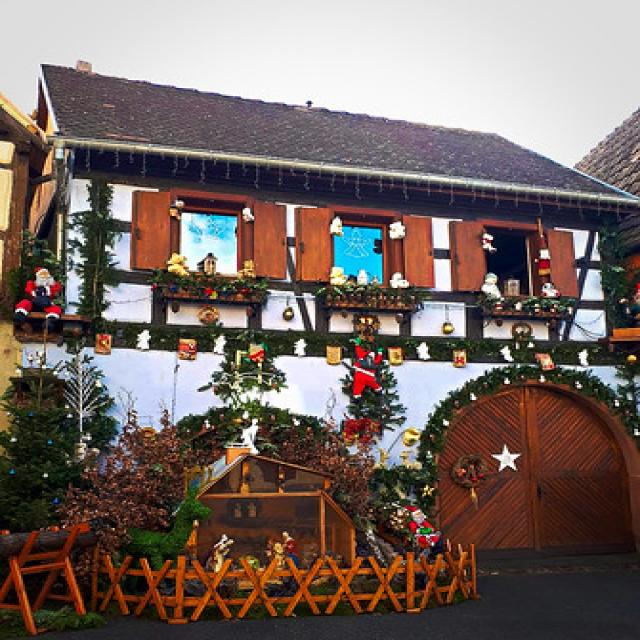Normal_building: (28, 56, 640, 618)
